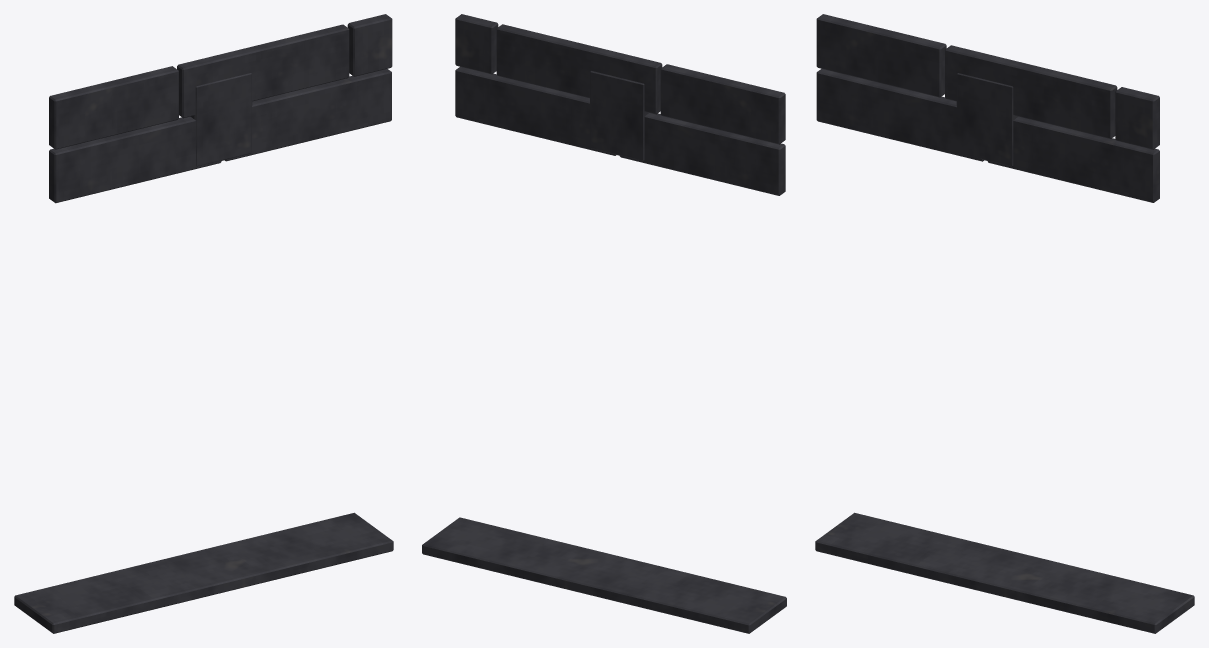
File: parede_porta.glb
The picture shows the model from 3 angles, left to right: view 1: azimuth 30°, elevation 25°; view 2: azimuth 150°, elevation 25°; view 3: azimuth 330°, elevation 25°; orthographic projection. The views are drawn at different scales.
Visible parts, largest first — view 1: parede_porta; view 2: parede_porta; view 3: parede_porta.
Part boxes in pixels (<box>): parede_porta: <box>14,14,393,633</box>; parede_porta: <box>422,14,786,633</box>; parede_porta: <box>815,14,1194,633</box>.
Bounding box in the file's own units: 2 × 2.99 × 0.406.
1 material, 1 textured.
